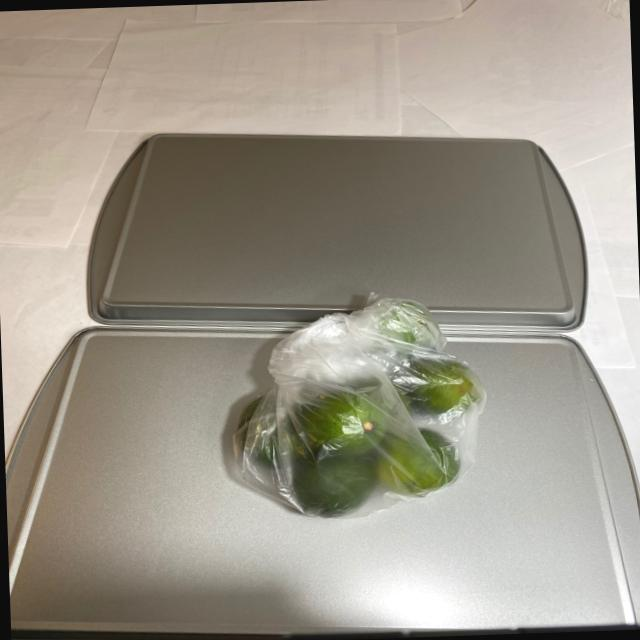lemon: (208, 303, 498, 517)
